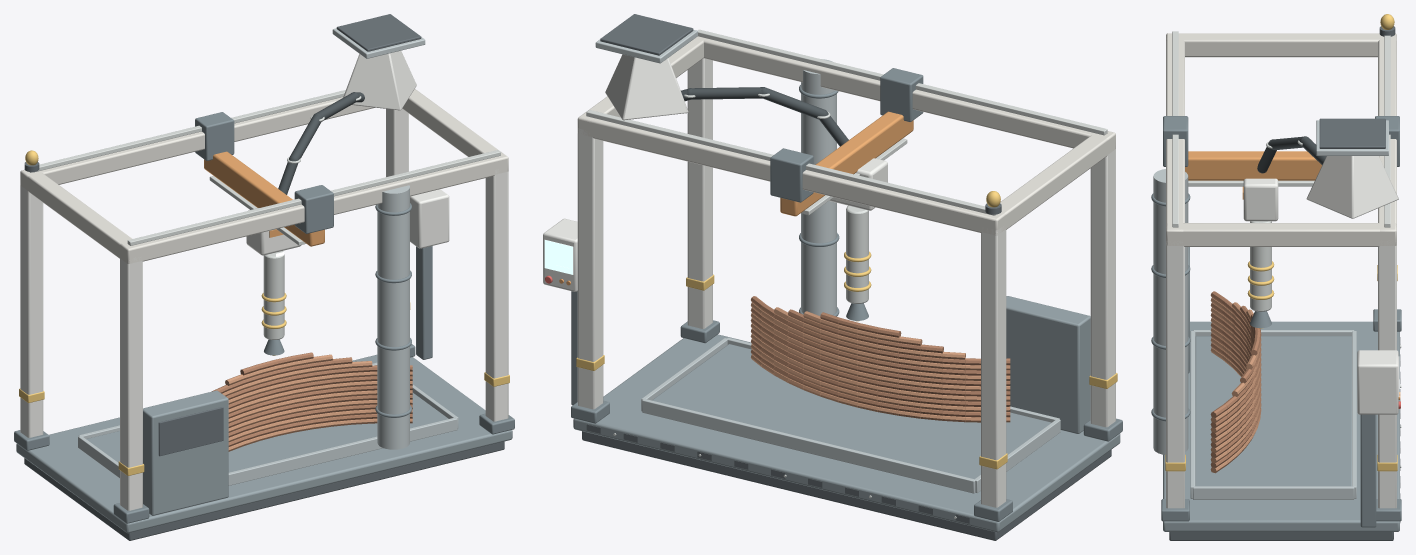
The model's file is regolith_printer.glb.
The picture shows the model from 3 angles, left to right: view 1: azimuth 30°, elevation 25°; view 2: azimuth 150°, elevation 25°; view 3: azimuth 270°, elevation 25°; orthographic projection. The views are drawn at different scales.
Parts seen in each view (by area): view 1: gantry_columns_white_painted, gantry_top_frame_warm_shell, deck_slate_panel, printed_panel_regolith, extractor_duct_alloy, power_cabinet_slate_panel, print_bed_slate_panel, y_rails_satin_steel, plinth_graphite, bed_rim_alloy, feed_hopper_white_painted, cross_beam_carriages_dark_alloy (+10 smaller); view 2: gantry_columns_white_painted, gantry_top_frame_warm_shell, deck_slate_panel, printed_panel_regolith, print_bed_slate_panel, power_cabinet_slate_panel, bed_rim_alloy, extractor_duct_alloy, y_rails_satin_steel, plinth_graphite, feed_hopper_white_painted, cross_beam_carriages_dark_alloy (+10 smaller); view 3: print_bed_slate_panel, gantry_top_frame_warm_shell, gantry_columns_white_painted, deck_slate_panel, printed_panel_regolith, bed_rim_alloy, extractor_duct_alloy, feed_hopper_white_painted, cross_beam_orange, console_body_white_painted, y_rails_satin_steel, feed_hopper_lid_graphite (+10 smaller).
Boxes of the visible parts, <box> form: gantry_columns_white_painted: <box>14,109,514,523</box>; gantry_top_frame_warm_shell: <box>20,89,508,263</box>; deck_slate_panel: <box>16,354,512,533</box>; printed_panel_regolith: <box>212,352,412,451</box>; extractor_duct_alloy: <box>377,185,409,449</box>; power_cabinet_slate_panel: <box>143,390,228,515</box>; print_bed_slate_panel: <box>86,393,448,472</box>; y_rails_satin_steel: <box>30,90,500,245</box>; plinth_graphite: <box>24,441,504,540</box>; bed_rim_alloy: <box>78,362,458,485</box>; feed_hopper_white_painted: <box>343,50,416,110</box>; cross_beam_carriages_dark_alloy: <box>195,112,333,233</box>; gantry_columns_white_painted: <box>571,58,1122,521</box>; gantry_top_frame_warm_shell: <box>577,36,1115,235</box>; deck_slate_panel: <box>573,334,1120,532</box>; printed_panel_regolith: <box>750,296,1010,422</box>; print_bed_slate_panel: <box>652,344,1051,479</box>; power_cabinet_slate_panel: <box>1006,296,1090,433</box>; bed_rim_alloy: <box>641,337,1060,493</box>; extractor_duct_alloy: <box>801,59,836,315</box>; y_rails_satin_steel: <box>586,29,1107,215</box>; plinth_graphite: <box>582,431,1111,540</box>; feed_hopper_white_painted: <box>605,54,688,120</box>; cross_beam_carriages_dark_alloy: <box>770,68,923,202</box>; print_bed_slate_panel: <box>1195,336,1351,486</box>; gantry_top_frame_warm_shell: <box>1166,33,1396,246</box>; gantry_columns_white_painted: <box>1161,240,1401,521</box>; deck_slate_panel: <box>1163,321,1399,531</box>; printed_panel_regolith: <box>1210,291,1261,473</box>; bed_rim_alloy: <box>1190,330,1356,499</box>; extractor_duct_alloy: <box>1153,169,1188,454</box>; feed_hopper_white_painted: <box>1306,156,1398,218</box>; cross_beam_orange: <box>1185,151,1321,180</box>; console_body_white_painted: <box>1357,350,1398,414</box>; y_rails_satin_steel: <box>1172,31,1390,227</box>; feed_hopper_lid_graphite: <box>1319,118,1385,148</box>.
Size of the model in its own units: 3.23 by 2.71 by 1.58.
